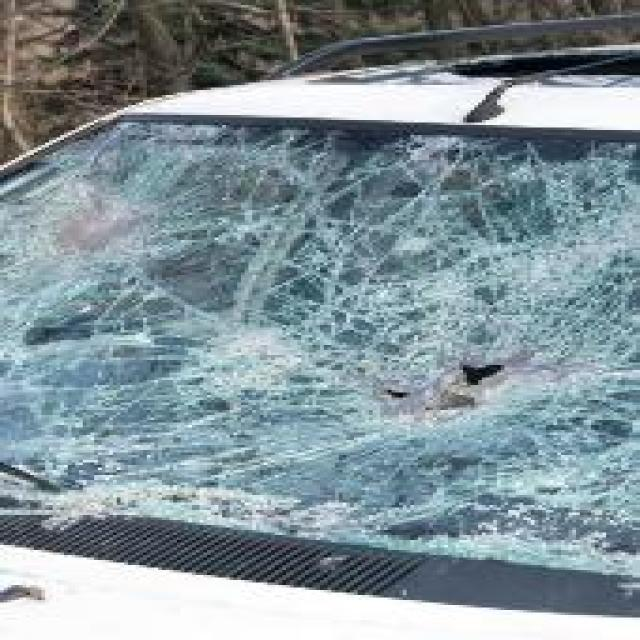Windshield: (0, 112, 640, 560)
